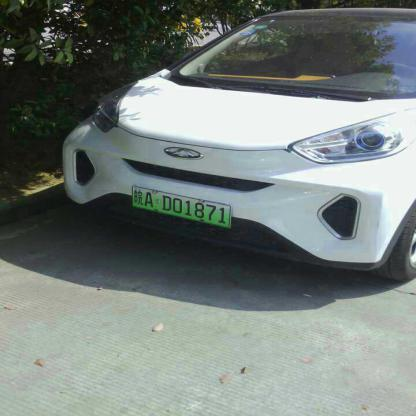lp: (130, 185, 232, 228)
